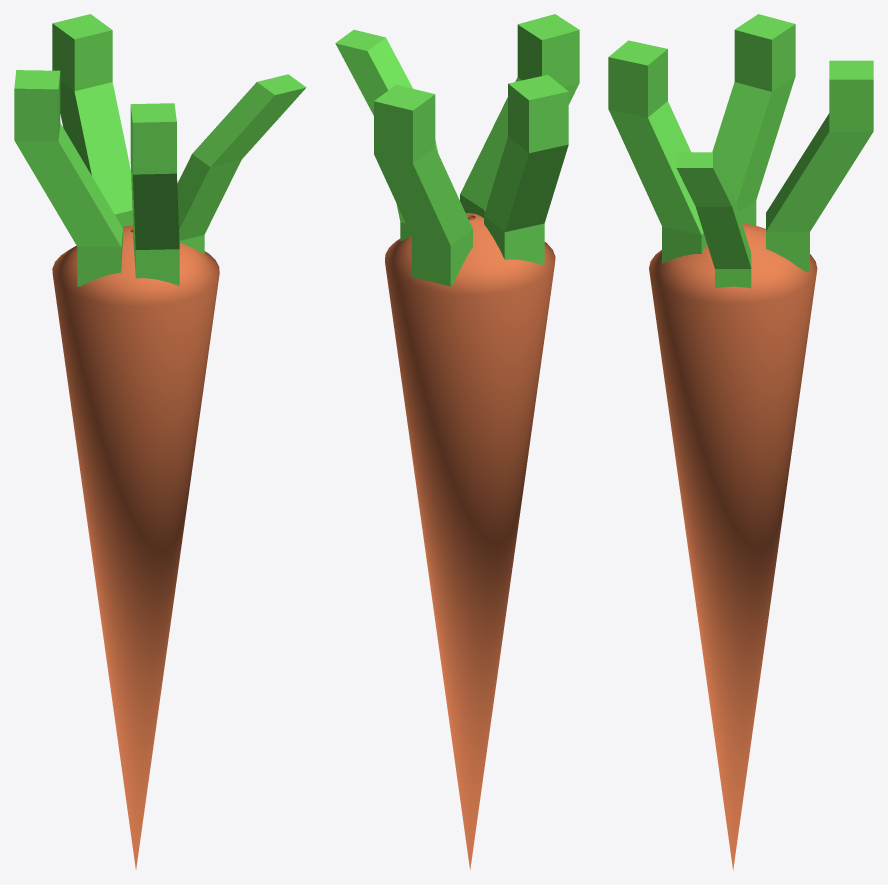
The model's file is morot.fbx.
3 renders of one model, left to right at view 1: azimuth 30°, elevation 25°; view 2: azimuth 150°, elevation 25°; view 3: azimuth 270°, elevation 25°, orthographic. The views are drawn at different scales.
Visible parts, largest first — view 1: Cone, Cube.003, Cube.001, Cube.002, Cube; view 2: Cone, Cube.001, Cube.003, Cube.002, Cube; view 3: Cone, Cube.002, Cube.003, Cube.001, Cube.
Boxes of the visible parts, bbox=[...] form: Cone: bbox=[52, 225, 219, 869]; Cube.003: bbox=[14, 70, 122, 286]; Cube.001: bbox=[52, 14, 132, 226]; Cube.002: bbox=[130, 103, 179, 285]; Cube: bbox=[177, 74, 306, 254]; Cone: bbox=[385, 213, 555, 870]; Cube.001: bbox=[374, 84, 472, 286]; Cube.003: bbox=[484, 75, 568, 264]; Cube.002: bbox=[460, 14, 579, 217]; Cube: bbox=[335, 29, 437, 241]; Cone: bbox=[649, 223, 817, 870]; Cube.002: bbox=[608, 40, 706, 263]; Cube.003: bbox=[712, 14, 795, 225]; Cube.001: bbox=[766, 60, 873, 271]; Cube: bbox=[676, 152, 751, 288].
Bounding box in the file's own units: 213 × 646 × 193.
